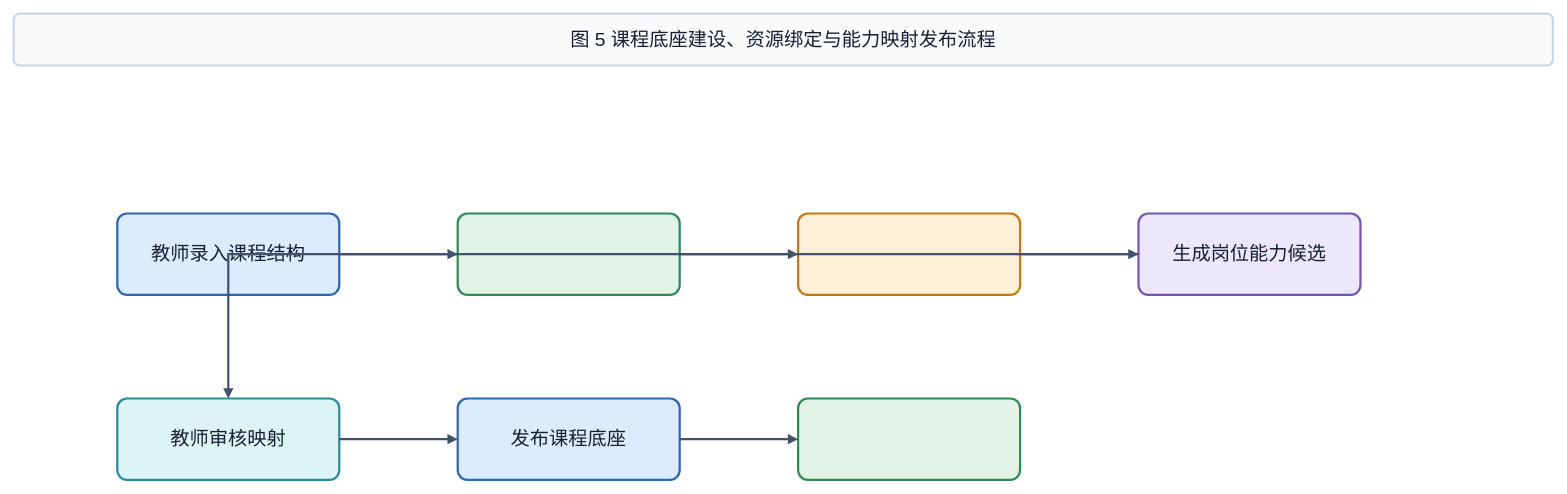
Image size: 1567x494. Some labels were removed from this diagram. Here are the shapes that lost their labels. From the top down, the centre of each, then its label:
the point at 568,254: 生成课程图谱草稿
the point at 909,254: 绑定资源候选
the point at 909,439: 下游只读已发布
